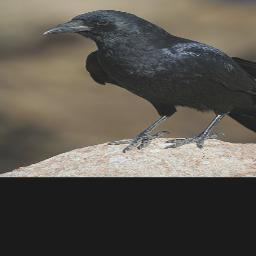Crow: (38, 9, 256, 154)
